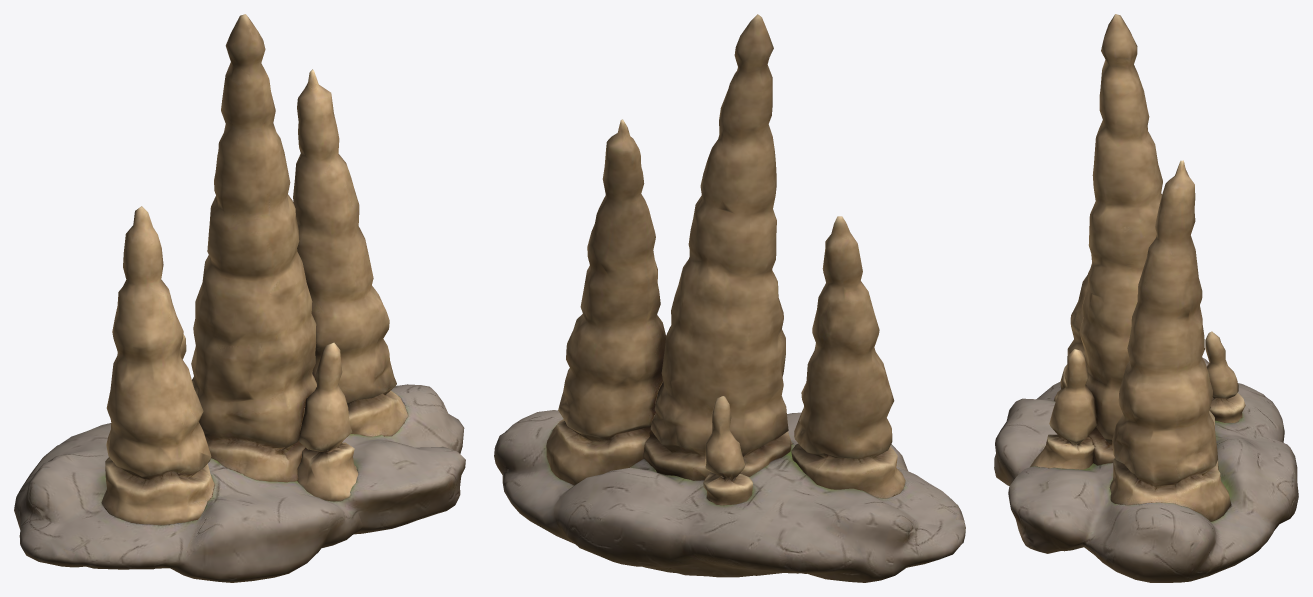
File: trap_drip_cluster.glb
3 views of the same model, side by side, from view 1: azimuth 30°, elevation 25°; view 2: azimuth 150°, elevation 25°; view 3: azimuth 270°, elevation 25° (orthographic). The views are drawn at different scales.
Parts seen in each view (by area): view 1: rock, stone0, stone2, stone1, stone3; view 2: rock, stone0, stone1, stone2, stone4; view 3: rock, stone1, stone0, stone3, stone4, stone2.
Boxes of the visible parts, x1,y1,x2,y2 form: rock: [14, 384, 465, 582]; stone0: [191, 14, 316, 482]; stone2: [101, 206, 214, 525]; stone1: [293, 69, 408, 436]; stone3: [297, 342, 358, 501]; rock: [494, 410, 965, 582]; stone0: [643, 14, 792, 480]; stone1: [546, 119, 666, 485]; stone2: [791, 216, 905, 498]; stone4: [703, 396, 752, 505]; rock: [994, 358, 1298, 582]; stone1: [1109, 160, 1231, 521]; stone0: [1079, 14, 1214, 465]; stone3: [1030, 349, 1096, 469]; stone4: [1205, 331, 1245, 423]; stone2: [1054, 254, 1092, 401].
Bounding box in the file's own units: 1.32 × 1.53 × 0.8456.
6 materials, 6 textured.
